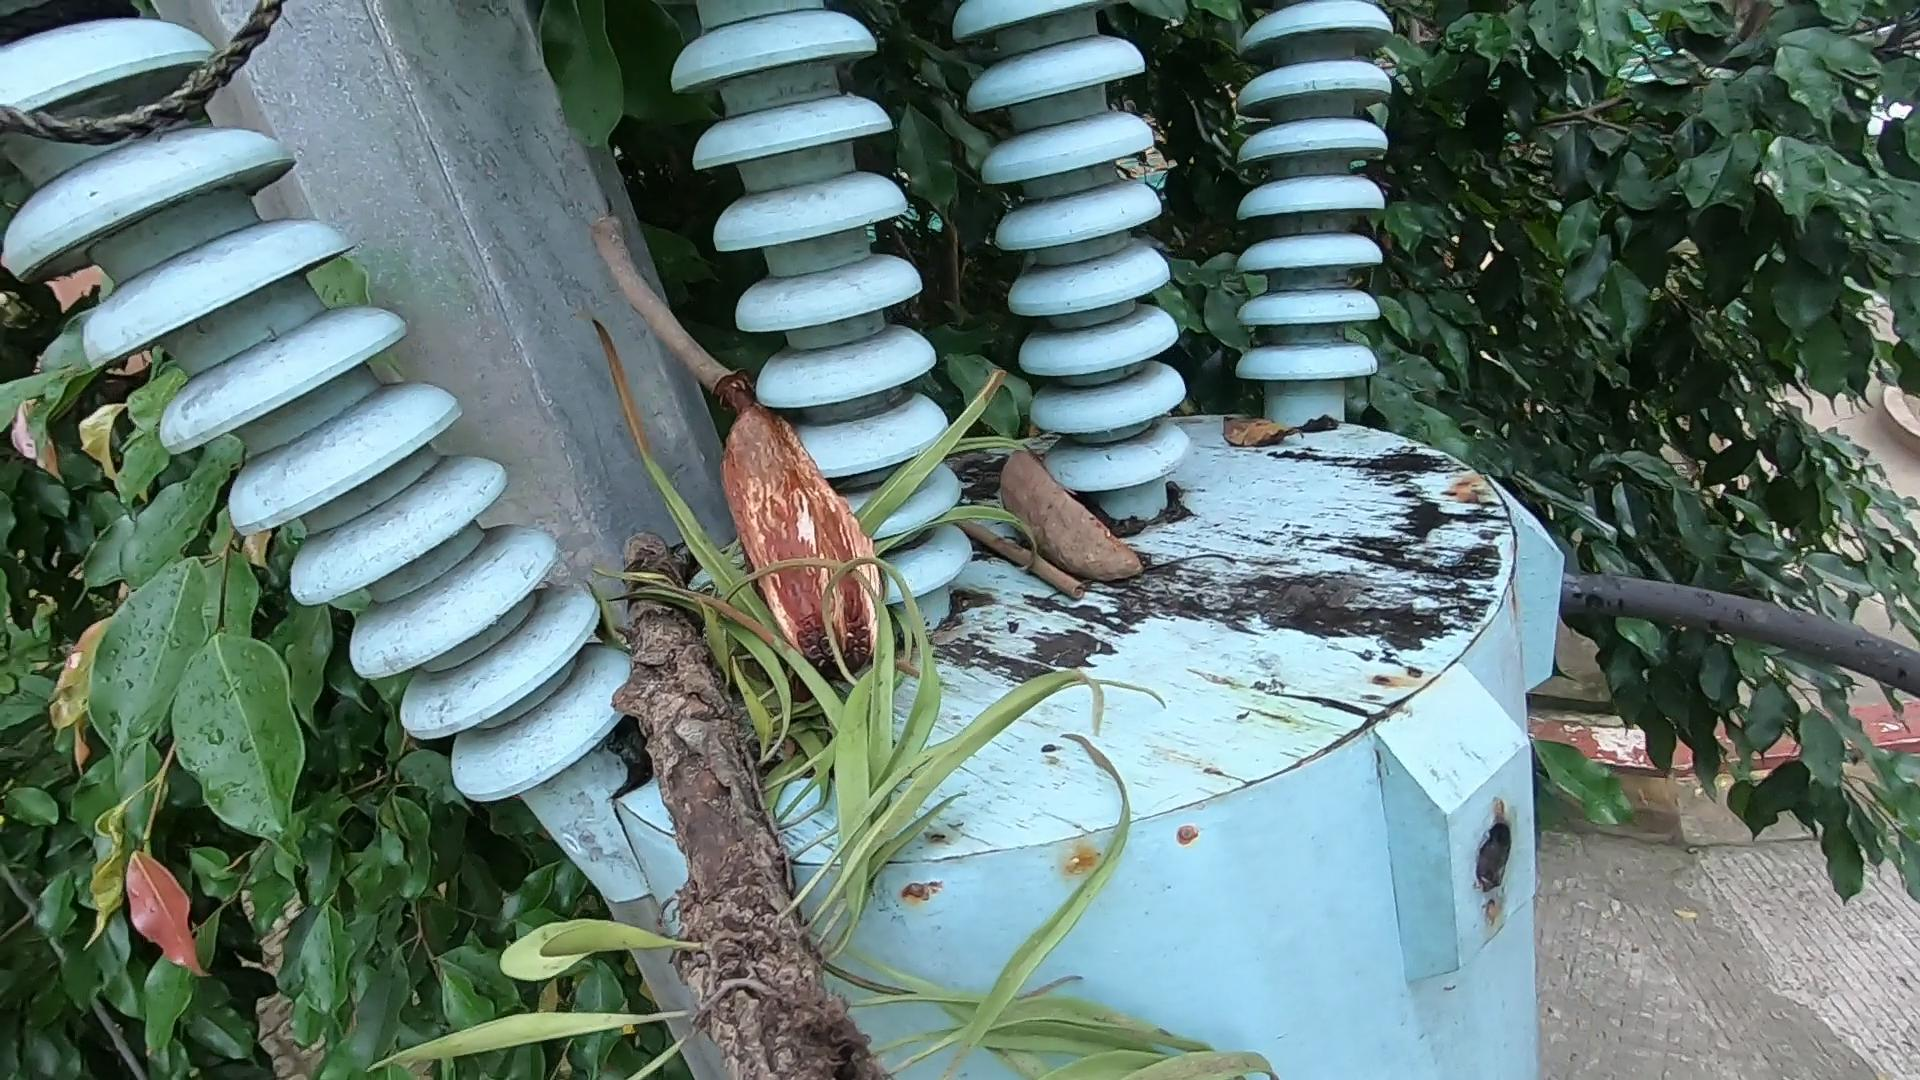branch with leaves: (599, 520, 1311, 1080)
leaf: (1204, 400, 1358, 462)
mahogany fruit: (716, 390, 947, 663), (971, 433, 1137, 607)
tree branch: (593, 198, 742, 398), (953, 495, 1077, 597)
